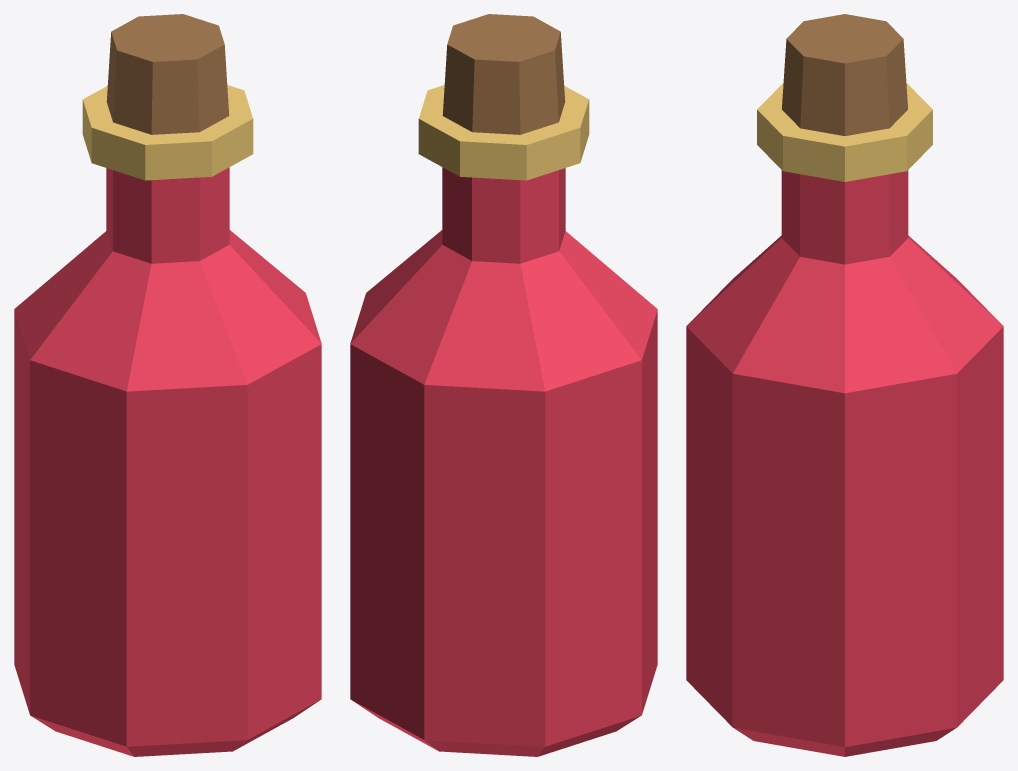
The model's file is potion_health.glb.
3 views of the same model, side by side, from view 1: azimuth 30°, elevation 25°; view 2: azimuth 150°, elevation 25°; view 3: azimuth 270°, elevation 25° (orthographic).
Visible parts, largest first — view 1: potion_health; view 2: potion_health; view 3: potion_health.
Boxes of the visible parts, x1=… form: potion_health: x1=14, y1=14, x2=321, y2=756; potion_health: x1=350, y1=14, x2=657, y2=756; potion_health: x1=686, y1=14, x2=1003, y2=756.
Bounding box in the file's own units: 0.13 × 0.3 × 0.13.
